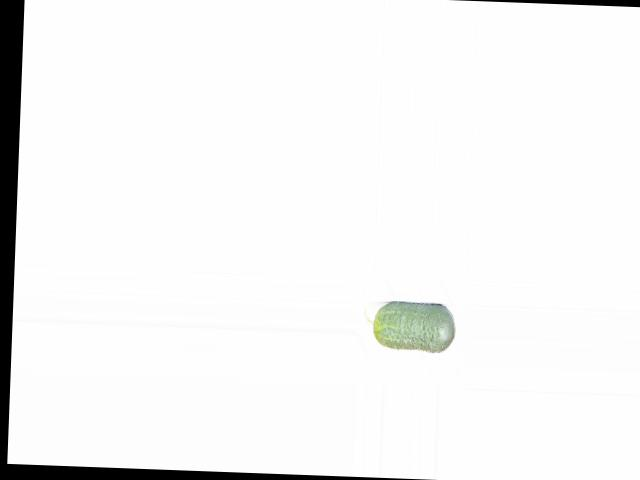cucumber: (362, 300, 456, 352)
